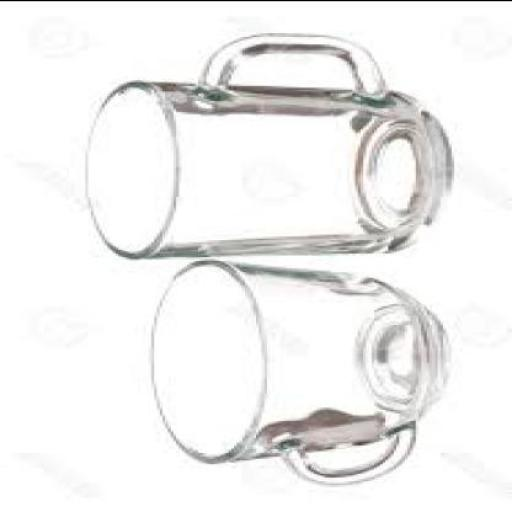glass: (82, 34, 450, 260), (146, 262, 448, 486)
